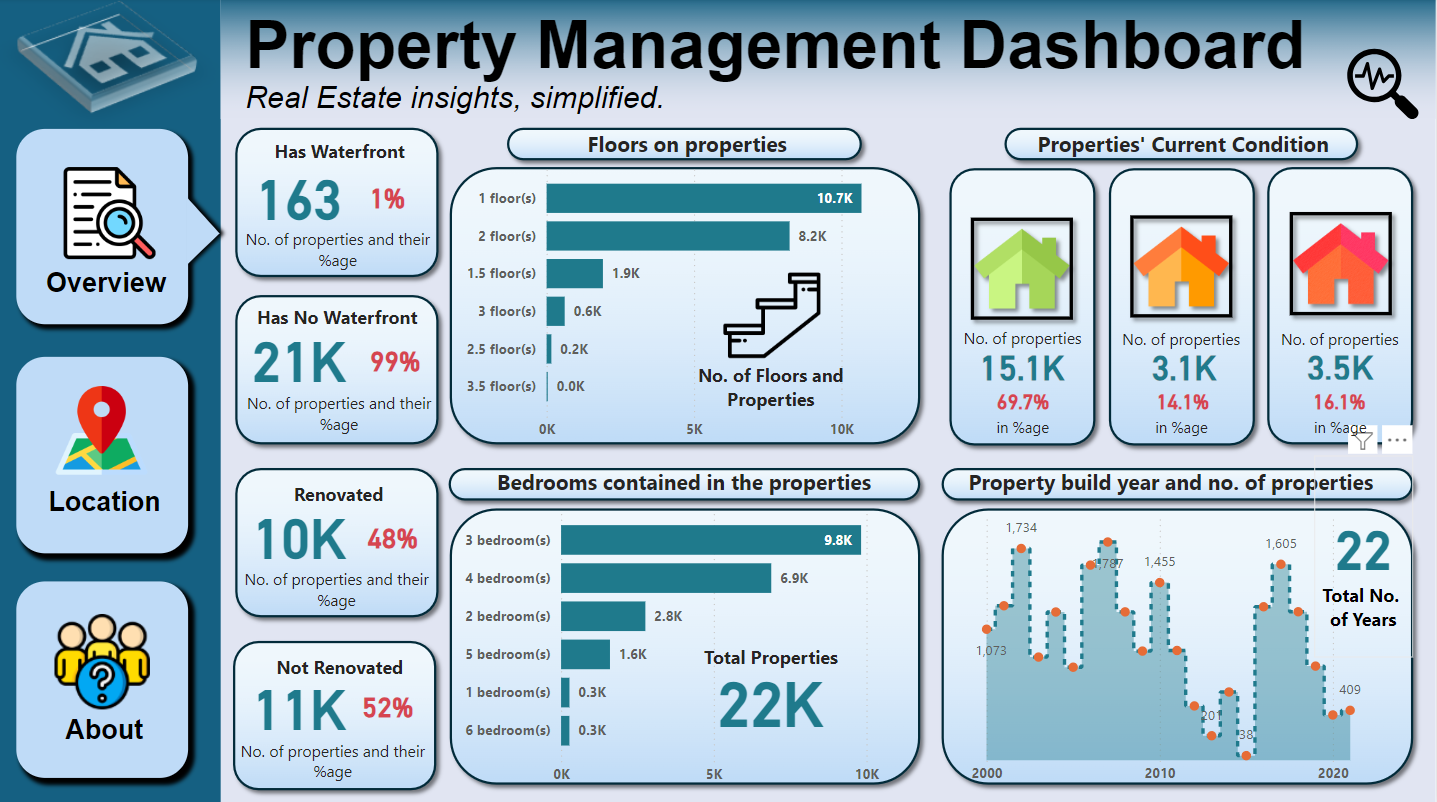

This screenshot's page, from the dashboard's own definition file:
{"tool":"powerbi","page":{"name":"Page 1","canvas":[1280,720],"ordinal":0},"visuals":[{"type":"barChart","fields":{"Category":["Dim_Bedrooms.Bedrooms"],"Y":["Measures Table.Total properties"]},"box":[410,442.5,402.5,266.2],"z":0},{"type":"textbox","box":[430,413.3,362.3,37.3],"z":1000},{"type":"textbox","box":[613.8,571.2,150,36.2],"z":2000},{"type":"card","fields":{"Values":["Measures Table.Total properties"]},"box":[623.8,580,128.8,85],"z":3000},{"type":"card","fields":{"Values":["Measures Table.Waterfront yes"]},"box":[174,137.5,188.8,72.5],"z":4000},{"type":"card","fields":{"Values":["Measures Table.% Waterfront yes"]},"box":[325.5,161.5,43.5,33.5],"z":5000},{"type":"barChart","fields":{"Y":["Measures Table.Total properties"],"Category":["Dim_Floors.Floors"]},"box":[411.1,138.9,404.4,263.3],"z":6000},{"type":"textbox","box":[873.8,112.1,363.3,34.6],"z":7000},{"type":"card","fields":{"Values":["Measures Table.Condition Great"]},"box":[838.5,304,147.2,47.1],"z":8000},{"type":"card","fields":{"Values":["Measures Table.Condition Good"]},"box":[994.7,304.1,122.4,47.1],"z":9000},{"type":"card","fields":{"Values":["Measures Table.Condition Bad"]},"box":[1156.2,309.5,77.6,35.7],"z":10000},{"type":"card","fields":{"Values":["Measures Table.% Condition Great"]},"box":[881.2,342.5,62.5,35],"z":11000},{"type":"card","fields":{"Values":["Measures Table.% Condition Good"]},"box":[1021.2,346.2,68.8,27.5],"z":12000},{"type":"card","fields":{"Values":["Measures Table.% Condition Bad"]},"box":[1163.8,346.2,62.5,27.5],"z":13000},{"type":"textbox","box":[851.4,413.3,385.7,35.7],"z":14000},{"type":"textbox","box":[431.7,112.1,363.8,35],"z":15000},{"type":"lineChart","fields":{"Y":["Measures Table.Total properties"],"Category":["Fact Table.yr_built"]},"box":[861.6,447.4,418.4,261.6],"z":16000},{"type":"textbox","box":[223.3,120,161.1,35.6],"z":17000},{"type":"textbox","box":[207.8,267.8,187.8,34.4],"z":18000},{"type":"textbox","box":[222.5,425,161.2,35],"z":19000},{"type":"textbox","box":[223.8,580,161.2,35],"z":20000},{"type":"card","fields":{"Values":["Measures Table.Properties years"]},"box":[1172.5,407.5,87.5,180],"z":21000},{"type":"actionButton","box":[1183.8,37.5,96.2,75],"z":23000},{"type":"pageNavigator","box":[26.2,327.5,132.5,158.8],"z":24000},{"type":"pageNavigator","box":[26.5,528.4,132.7,158],"z":25000},{"type":"textbox","box":[845,288.8,135,31.2],"z":26000},{"type":"textbox","box":[991.1,288.9,125.8,30.5],"z":27000},{"type":"textbox","box":[1130,288.9,130,30.5],"z":28000},{"type":"textbox","box":[878.9,368.4,66.3,30.5],"z":29000},{"type":"textbox","box":[1021.1,368.9,66.3,30.5],"z":30000},{"type":"textbox","box":[1162.1,368.9,66.3,30.5],"z":31000},{"type":"textbox","box":[207.5,200.5,191,47.5],"z":32000},{"type":"card","fields":{"Values":["Measures Table.Waterfront no"]},"box":[174,282.7,188.8,72.5],"z":33000},{"type":"card","fields":{"Values":["Measures Table.% Waterfront No"]},"box":[326.3,306.7,55.3,33.3],"z":34000},{"type":"textbox","box":[208.4,345.7,191,47.5],"z":35000},{"type":"card","fields":{"Values":["Measures Table.Renovated"]},"box":[174,439.8,188.8,72.5],"z":36000},{"type":"card","fields":{"Values":["Measures Table.% Renovated Yes"]},"box":[324.3,463.7,55.3,33.3],"z":37000},{"type":"textbox","box":[206.4,502.7,191,47.5],"z":38000},{"type":"card","fields":{"Values":["Measures Table.Not Renovated"]},"box":[174,592.8,188.8,72.5],"z":39000},{"type":"card","fields":{"Values":["Measures Table.% Renovated No"]},"box":[315,615,63.8,33.8],"z":40000},{"type":"textbox","box":[202.4,655.7,191,47.5],"z":41000},{"type":"image","box":[641.2,233.8,96.2,97.5],"z":42000},{"type":"textbox","box":[605,320,167.5,60],"z":43000}]}

Visuals, with their boxes in screenshot pixels (x1, y1, x2, y2), scaled from the page's 1280x720 canvas onto the 1437x802 screenshot:
barChart - Dim_Bedrooms.Bedrooms x Measures Table.Total properties: (x1=460, y1=493, x2=912, y2=789)
textbox: (x1=483, y1=460, x2=889, y2=502)
textbox: (x1=689, y1=636, x2=857, y2=677)
card - Measures Table.Total properties: (x1=700, y1=646, x2=845, y2=741)
card - Measures Table.Waterfront yes: (x1=195, y1=153, x2=407, y2=234)
card - Measures Table.% Waterfront yes: (x1=365, y1=180, x2=414, y2=217)
barChart - Measures Table.Total properties x Dim_Floors.Floors: (x1=462, y1=155, x2=916, y2=448)
textbox: (x1=981, y1=125, x2=1389, y2=163)
card - Measures Table.Condition Great: (x1=941, y1=339, x2=1107, y2=391)
card - Measures Table.Condition Good: (x1=1117, y1=339, x2=1254, y2=391)
card - Measures Table.Condition Bad: (x1=1298, y1=345, x2=1385, y2=385)
card - Measures Table.% Condition Great: (x1=989, y1=382, x2=1059, y2=420)
card - Measures Table.% Condition Good: (x1=1146, y1=386, x2=1224, y2=416)
card - Measures Table.% Condition Bad: (x1=1307, y1=386, x2=1377, y2=416)
textbox: (x1=956, y1=460, x2=1389, y2=500)
textbox: (x1=485, y1=125, x2=893, y2=164)
lineChart - Measures Table.Total properties x Fact Table.yr_built: (x1=967, y1=498, x2=1436, y2=790)
textbox: (x1=251, y1=134, x2=432, y2=173)
textbox: (x1=233, y1=298, x2=444, y2=337)
textbox: (x1=250, y1=473, x2=431, y2=512)
textbox: (x1=251, y1=646, x2=432, y2=685)
card - Measures Table.Properties years: (x1=1316, y1=454, x2=1415, y2=654)
actionButton: (x1=1329, y1=42, x2=1436, y2=125)
pageNavigator: (x1=29, y1=365, x2=178, y2=542)
pageNavigator: (x1=30, y1=589, x2=179, y2=765)
textbox: (x1=949, y1=322, x2=1100, y2=356)
textbox: (x1=1113, y1=322, x2=1254, y2=356)
textbox: (x1=1269, y1=322, x2=1415, y2=356)
textbox: (x1=987, y1=410, x2=1061, y2=444)
textbox: (x1=1146, y1=411, x2=1221, y2=445)
textbox: (x1=1305, y1=411, x2=1379, y2=445)
textbox: (x1=233, y1=223, x2=447, y2=276)
card - Measures Table.Waterfront no: (x1=195, y1=315, x2=407, y2=396)
card - Measures Table.% Waterfront No: (x1=366, y1=342, x2=428, y2=379)
textbox: (x1=234, y1=385, x2=448, y2=438)
card - Measures Table.Renovated: (x1=195, y1=490, x2=407, y2=571)
card - Measures Table.% Renovated Yes: (x1=364, y1=517, x2=426, y2=554)
textbox: (x1=232, y1=560, x2=446, y2=613)
card - Measures Table.Not Renovated: (x1=195, y1=660, x2=407, y2=741)
card - Measures Table.% Renovated No: (x1=354, y1=685, x2=425, y2=723)
textbox: (x1=227, y1=730, x2=442, y2=783)
image: (x1=720, y1=260, x2=828, y2=369)
textbox: (x1=679, y1=356, x2=867, y2=423)
